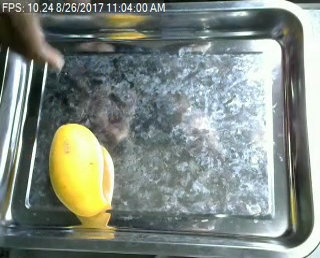Mango: (46, 121, 112, 220)
